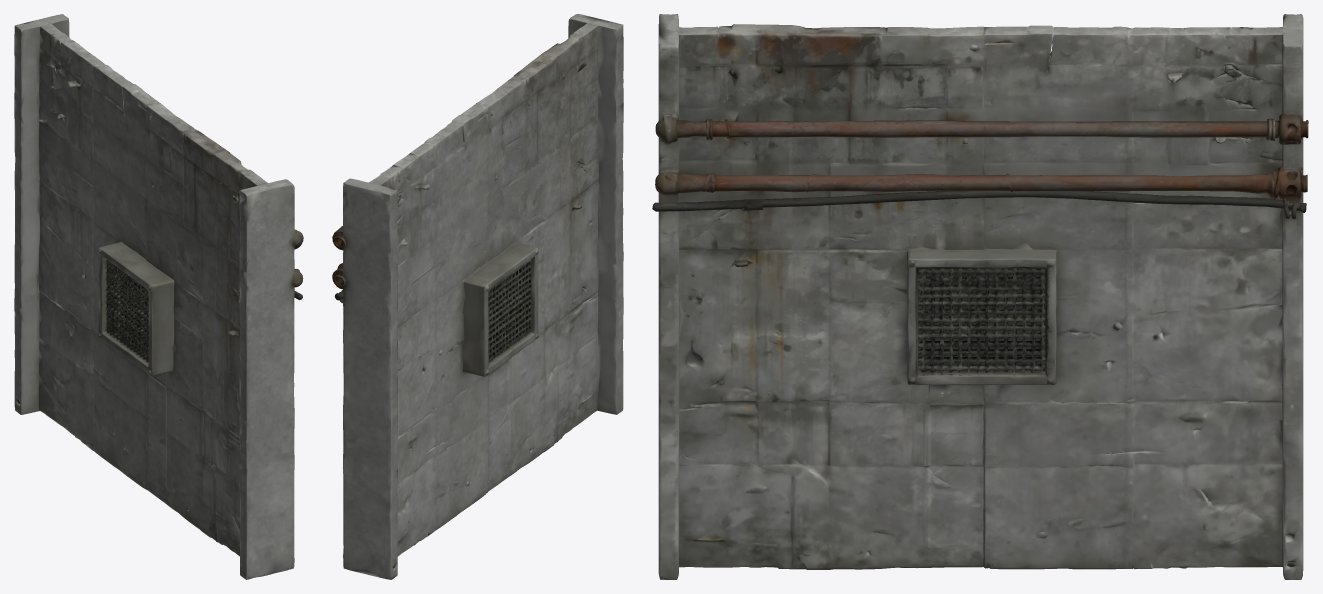
File: 3D-модель+стены+бункера.glb
The picture shows the model from 3 angles, left to right: view 1: azimuth 30°, elevation 25°; view 2: azimuth 150°, elevation 25°; view 3: azimuth 270°, elevation 25°; orthographic projection. The views are drawn at different scales.
Parts seen in each view (by area): view 1: tripo_node_d9ba6461-4d08-448f-a682-a00aa6358f9d; view 2: tripo_node_d9ba6461-4d08-448f-a682-a00aa6358f9d; view 3: tripo_node_d9ba6461-4d08-448f-a682-a00aa6358f9d.
Part boxes in pixels (bbox=[...]): tripo_node_d9ba6461-4d08-448f-a682-a00aa6358f9d: bbox=[14, 14, 303, 579]; tripo_node_d9ba6461-4d08-448f-a682-a00aa6358f9d: bbox=[332, 14, 623, 579]; tripo_node_d9ba6461-4d08-448f-a682-a00aa6358f9d: bbox=[652, 14, 1308, 579].
Size of the model in its own units: 0.165 by 0.8853 by 0.9786.
Materials: 1 (1 with a texture image).
